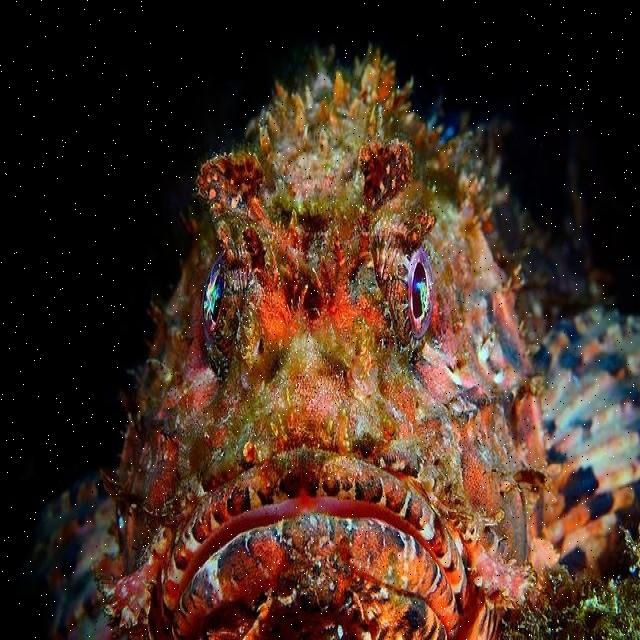aquatic plants: (507, 524, 639, 639)
fish: (33, 41, 639, 639)
